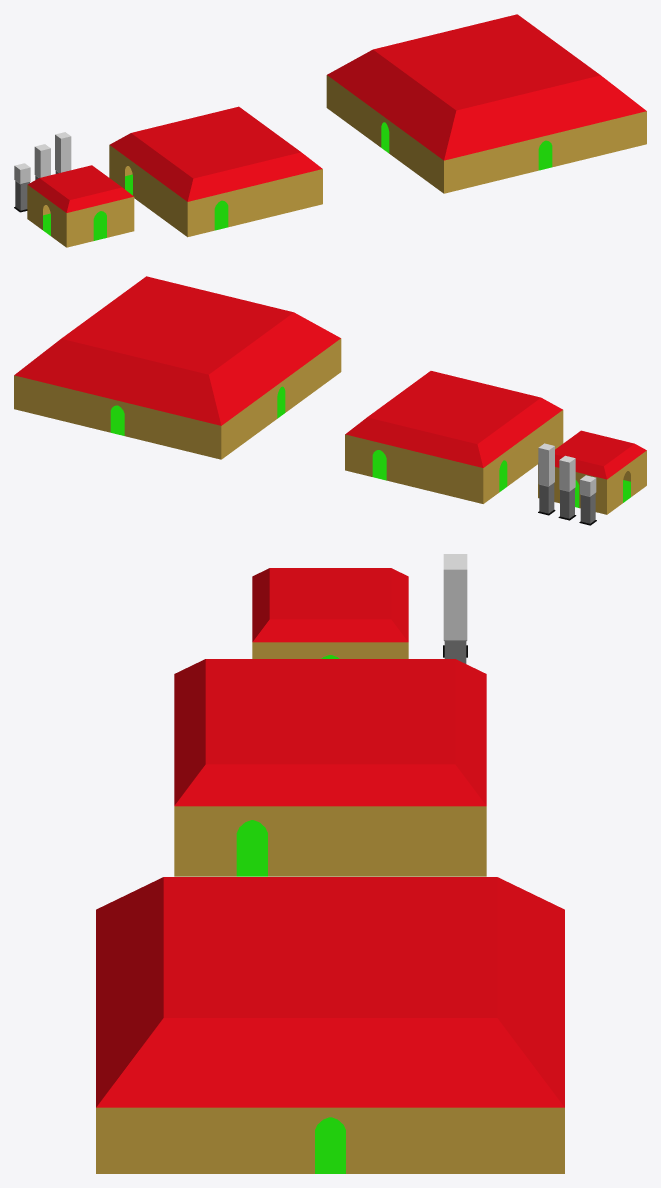
The model's file is Rooms.fbx.
3 views of the same model, one above another, from view 1: azimuth 30°, elevation 25°; view 2: azimuth 150°, elevation 25°; view 3: azimuth 270°, elevation 25° (orthographic). The views are drawn at different scales.
Parts seen in each view (by area): view 1: Large Room, Medium Room, Small Room, Small pillar, Large pillar, Medium pillar; view 2: Large Room, Medium Room, Small Room, Large pillar, Medium pillar, Small pillar; view 3: Large Room, Medium Room, Small Room, Large pillar.
Boxes of the visible parts, x1,y1,x2,y2 form: Large Room: [326, 14, 646, 193]; Medium Room: [109, 106, 322, 237]; Small Room: [27, 165, 134, 247]; Small pillar: [14, 163, 30, 212]; Large pillar: [55, 132, 71, 173]; Medium pillar: [34, 144, 50, 179]; Large Room: [14, 276, 341, 459]; Medium Room: [345, 371, 563, 503]; Small Room: [538, 430, 646, 514]; Large pillar: [538, 443, 555, 515]; Medium pillar: [558, 455, 576, 520]; Small pillar: [579, 475, 596, 525]; Large Room: [96, 877, 564, 1173]; Medium Room: [174, 659, 486, 876]; Small Room: [252, 568, 408, 658]; Large pillar: [443, 559, 467, 663].
Size of the model in its own units: 8000 by 900 by 3000.
